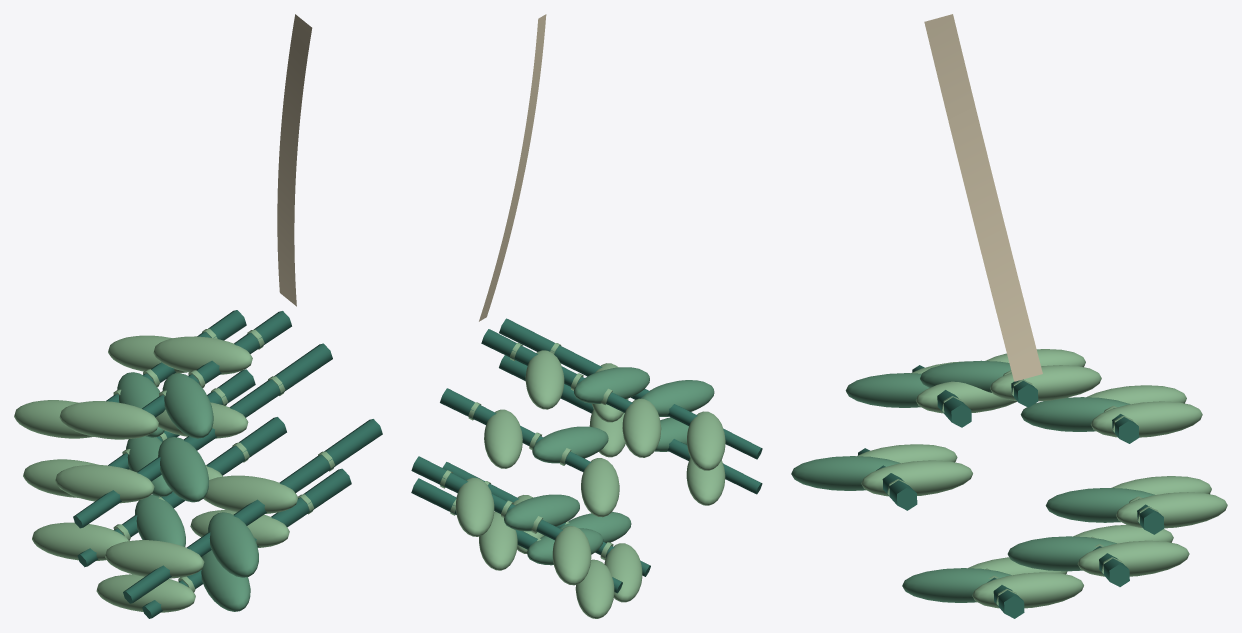
The model's file is bamboo.glb.
The picture shows the model from 3 angles, left to right: view 1: azimuth 30°, elevation 25°; view 2: azimuth 150°, elevation 25°; view 3: azimuth 270°, elevation 25°; orthographic projection. The views are drawn at different scales.
Visible parts, largest first — view 1: bamboo (×4); view 2: bamboo (×4); view 3: bamboo (×4).
Part boxes in pixels (box(x1,y1,x2,y2)): bamboo (×4): box(14, 14, 382, 618); bamboo (×4): box(411, 14, 762, 618); bamboo (×4): box(791, 14, 1227, 618).
Size of the model in its own units: 0.3499 by 0.622 by 0.3827.
